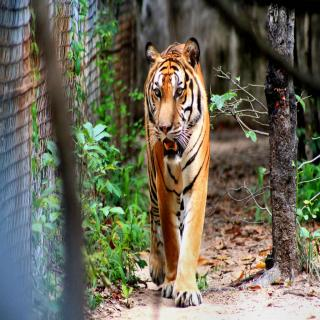Tiger: (143, 37, 210, 308)
